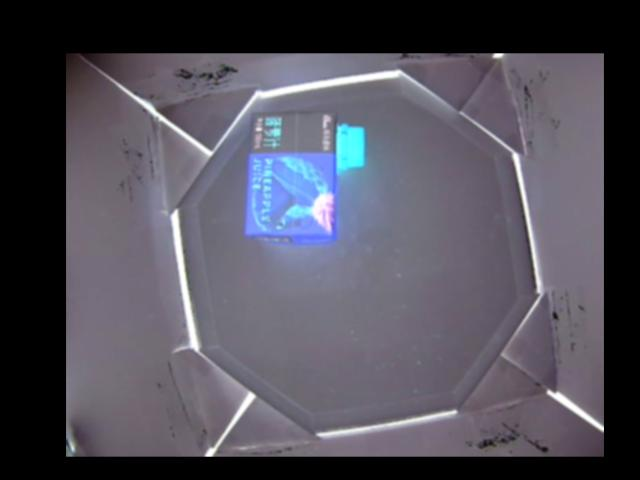Bottle: (242, 107, 366, 242)
